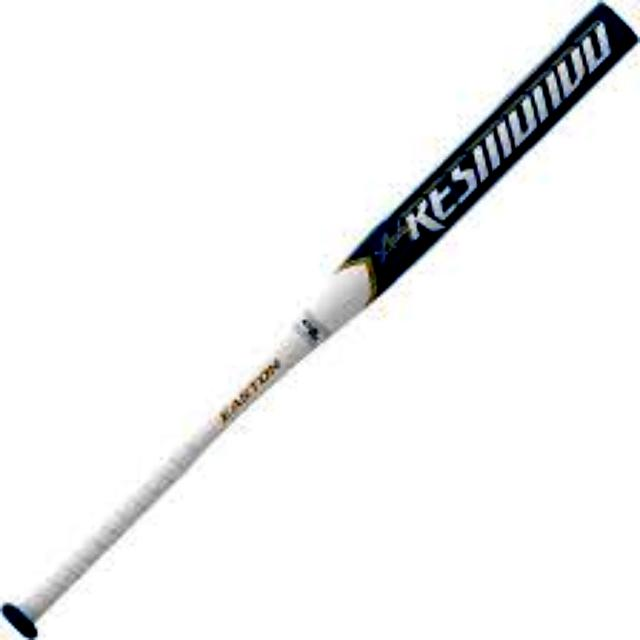baseball bat: (0, 1, 640, 640)
